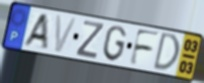A: (21, 13, 49, 50)
D: (151, 31, 181, 72)
F: (127, 27, 162, 67)
G: (101, 25, 128, 64)
V: (54, 13, 79, 54)
Z: (74, 19, 106, 60)
